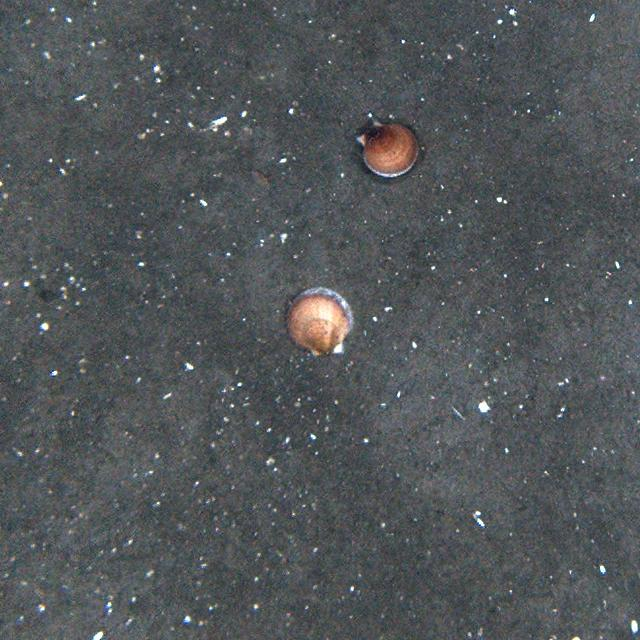scallop: (285, 288, 356, 358), (352, 116, 424, 181)
